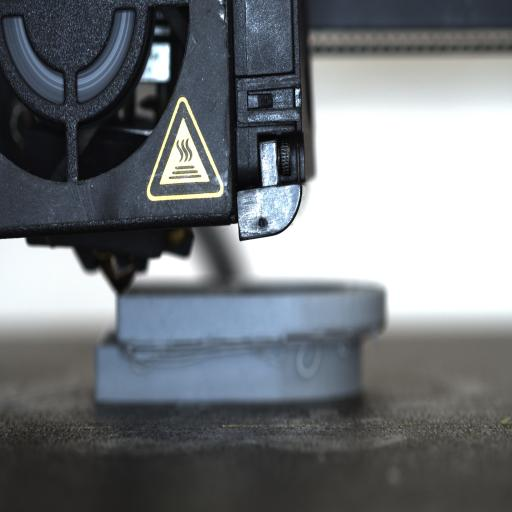layer_shift: (86, 314, 393, 366)
